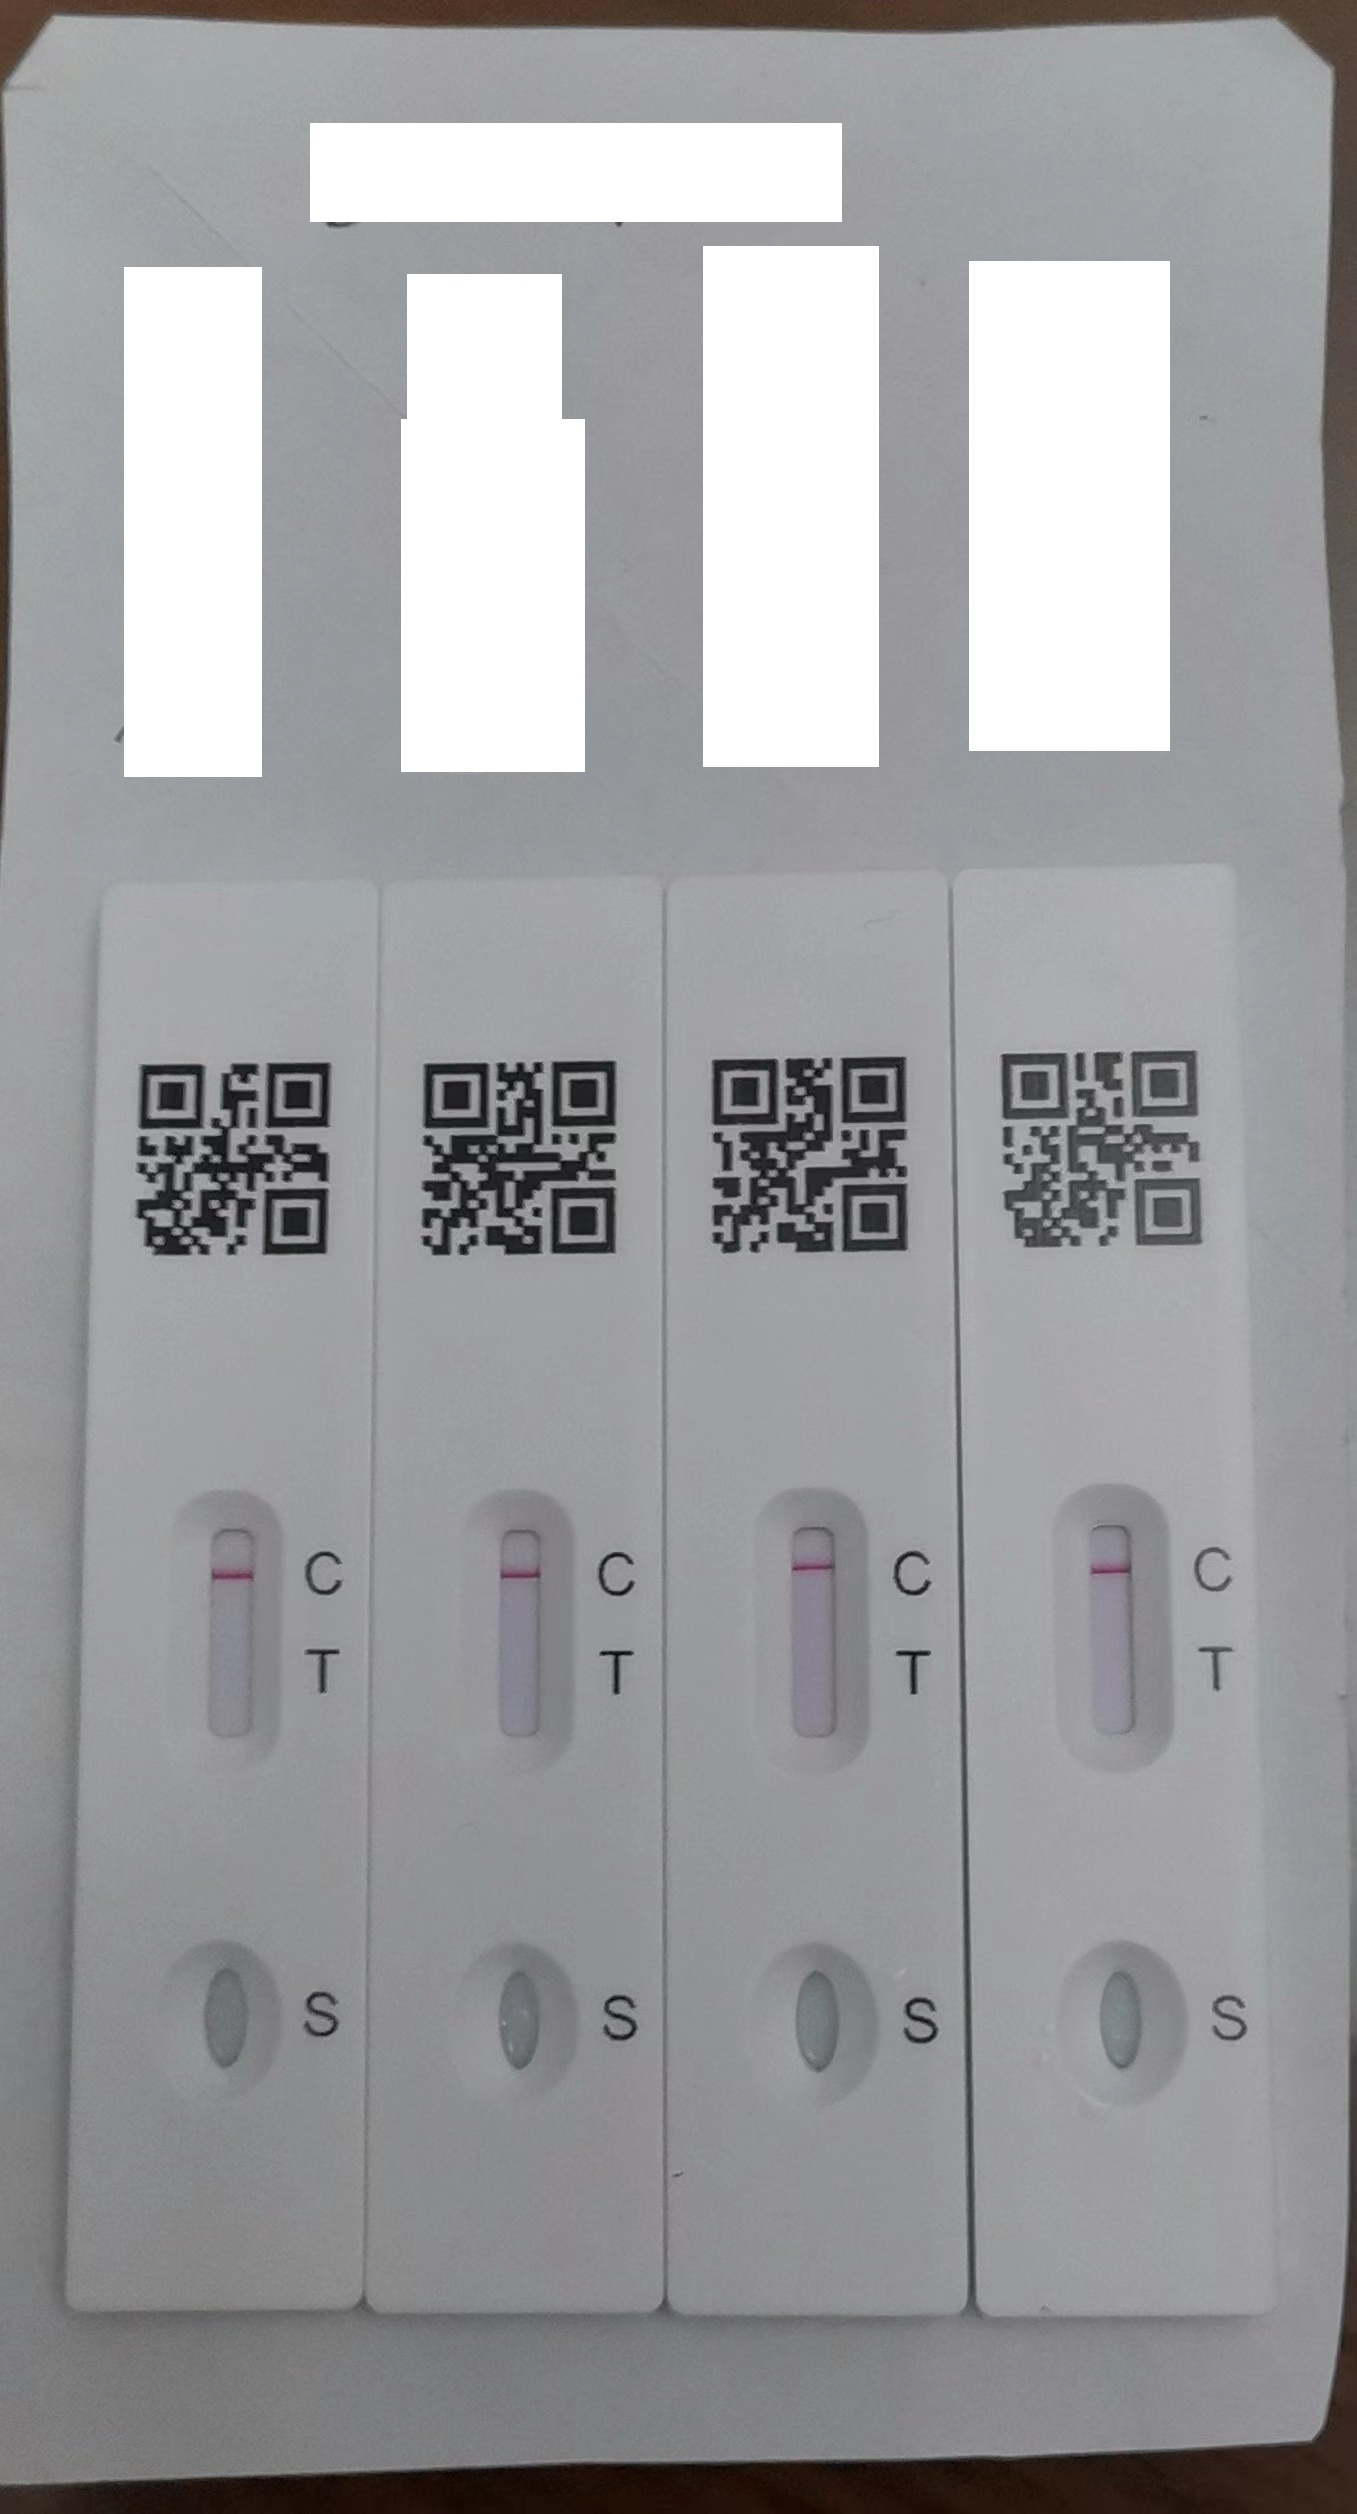negative: (1051, 1477, 1180, 1767), (752, 1493, 867, 1759), (465, 1497, 577, 1759), (184, 1497, 277, 1756)
